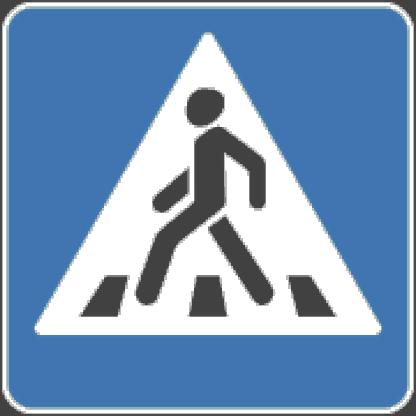Pedestrian Crossing: (41, 29, 395, 368)
